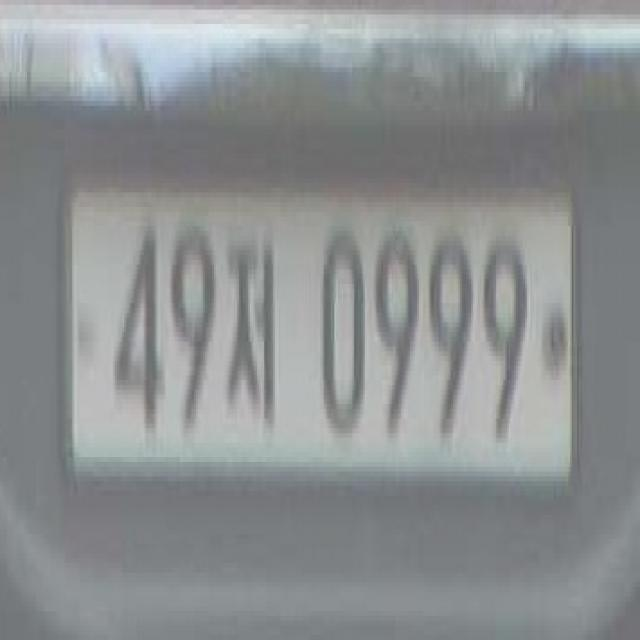0: (322, 202, 368, 454)
4: (111, 210, 168, 455)
9: (372, 211, 422, 461), (426, 229, 477, 462), (483, 222, 532, 459), (168, 218, 216, 442)
jeo: (224, 221, 288, 457)
license_plate: (48, 162, 587, 516)
